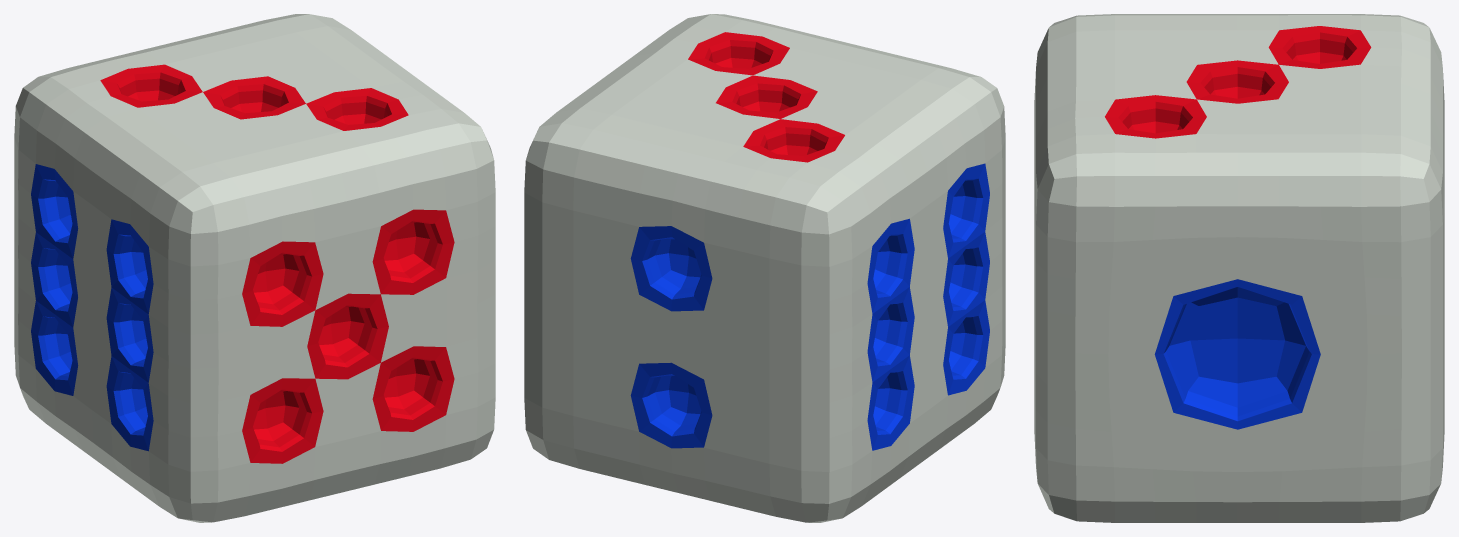
The model's file is Hang.fbx.
The picture shows the model from 3 angles, left to right: view 1: azimuth 30°, elevation 25°; view 2: azimuth 150°, elevation 25°; view 3: azimuth 270°, elevation 25°; orthographic projection. The views are drawn at different scales.
Visible parts, largest first — view 1: TOUZI; view 2: TOUZI; view 3: TOUZI.
Part boxes in pixels (<box>): TOUZI: <box>14,14,495,522</box>; TOUZI: <box>524,14,1005,522</box>; TOUZI: <box>1034,14,1444,522</box>.
Size of the model in its own units: 200 by 200 by 200.
